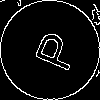P: (25, 25, 80, 74)
